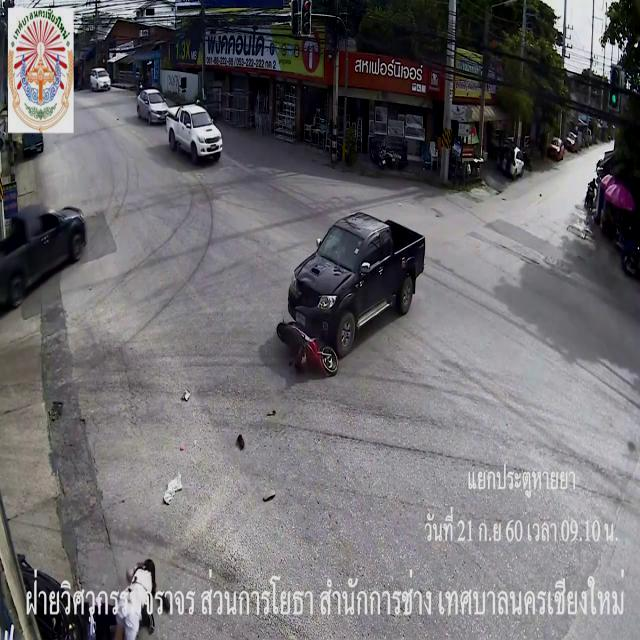accident: (272, 210, 428, 384)
non-accident: (133, 86, 225, 164), (542, 126, 580, 164)
